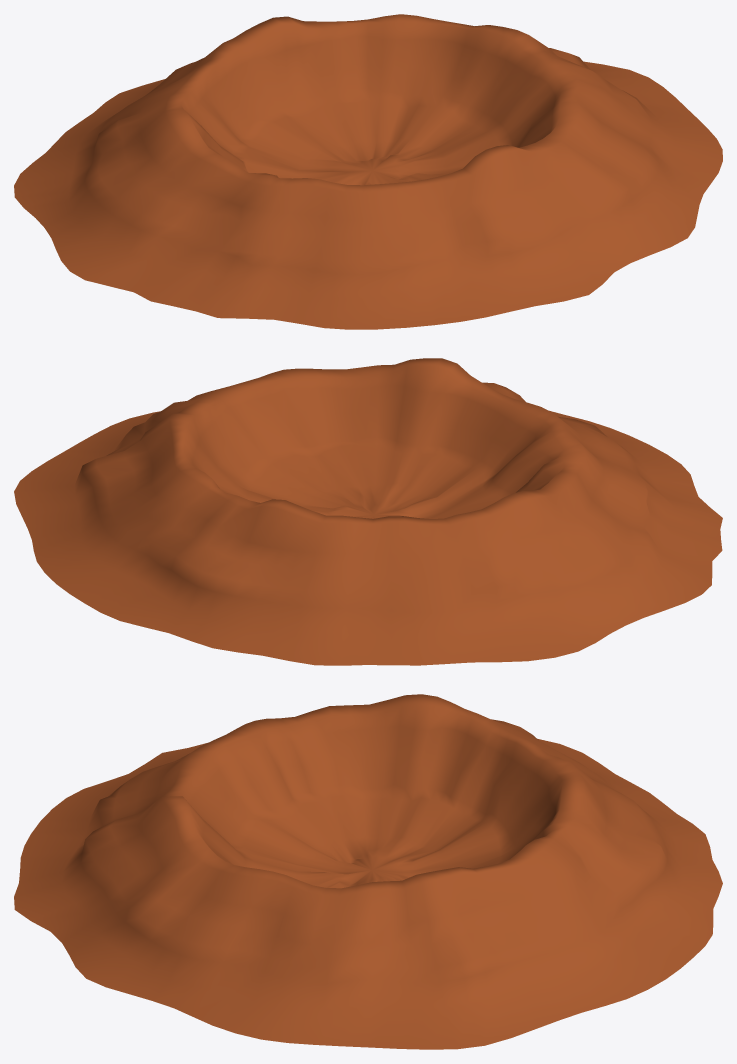
The model's file is Crater_001.fbx.
The picture shows the model from 3 angles, top to bottom: view 1: azimuth 30°, elevation 25°; view 2: azimuth 150°, elevation 25°; view 3: azimuth 270°, elevation 25°; orthographic projection. The views are drawn at different scales.
Visible parts, largest first — view 1: LowPoly; view 2: LowPoly; view 3: LowPoly.
Part boxes in pixels (left/top/right/bottom): LowPoly: left=14, top=14, right=722, bottom=329; LowPoly: left=14, top=358, right=722, bottom=665; LowPoly: left=14, top=694, right=722, bottom=1049.
Size of the model in its own units: 246 by 34.83 by 224.
